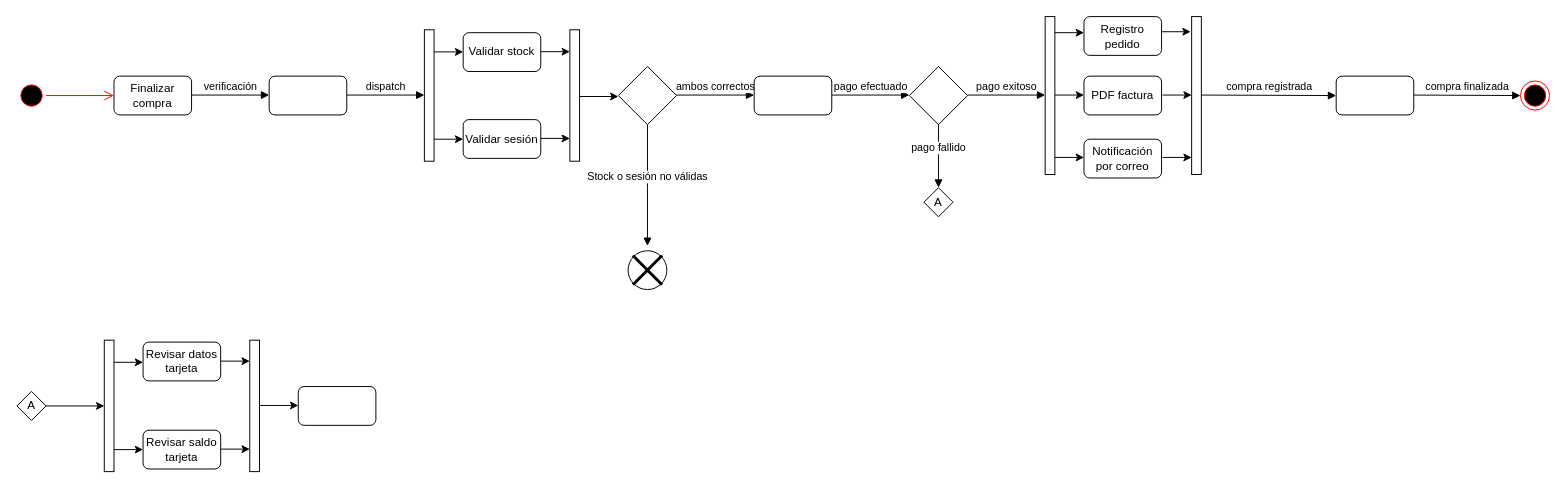
This 1567x490 diagram has some shape labels left out. Here are the shapes that lost their labels. From the top down, the centre of each, then its label:
At point 307,95: "Validar compra".
At point 792,95: "Pagar 1".
At point 1374,95: "Mostrar mensaje".
At point 336,405: "Cambiar tarjeta".
